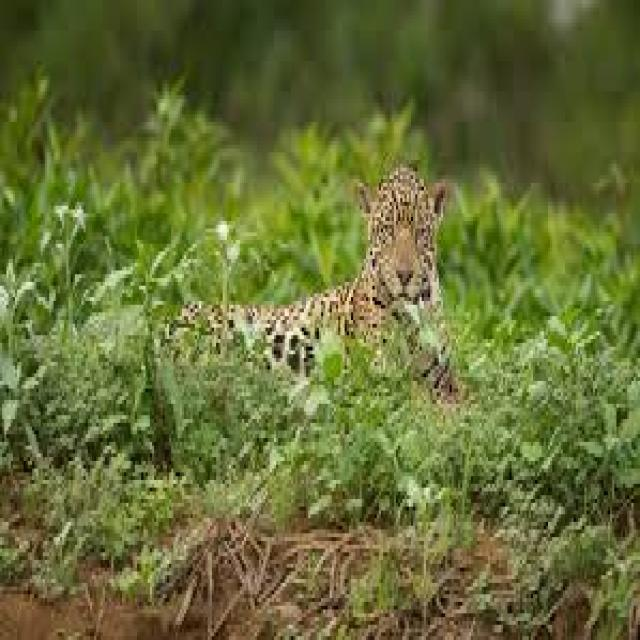Jaguar: (162, 164, 454, 404)
